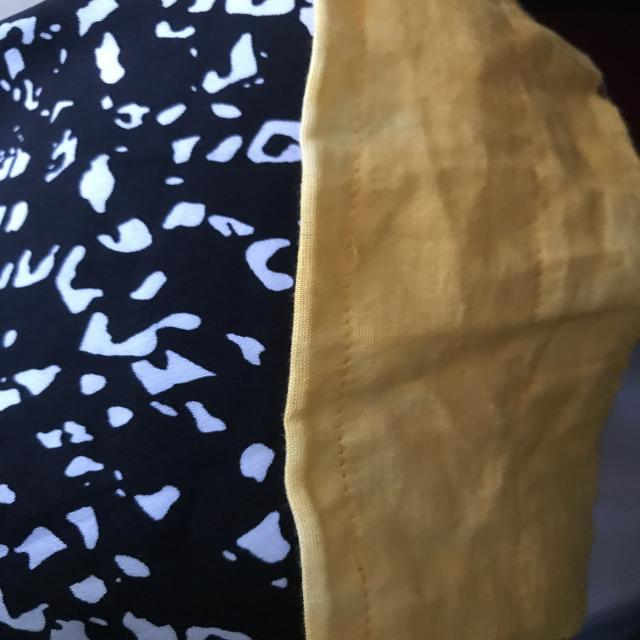skip: (340, 226, 375, 286)
